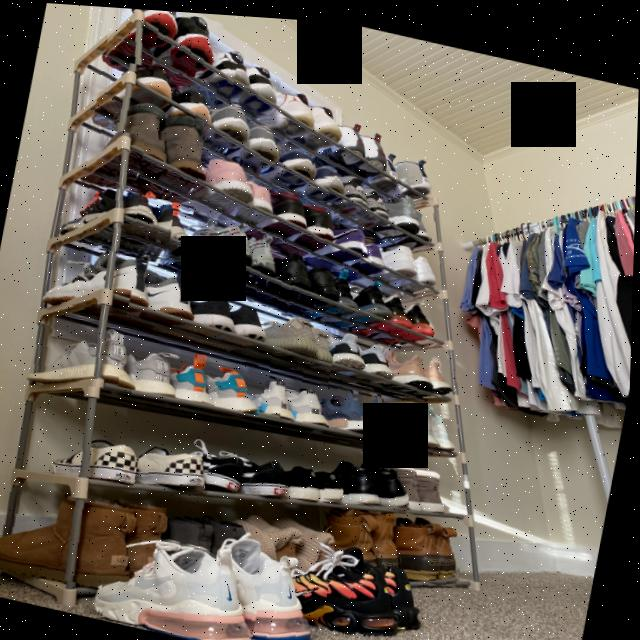shoe: (0, 470, 173, 598), (98, 523, 271, 640), (281, 539, 434, 640), (209, 524, 341, 640), (53, 176, 196, 269), (92, 56, 220, 150), (162, 207, 286, 298), (146, 276, 281, 359), (43, 238, 160, 323), (133, 105, 222, 213), (82, 94, 174, 198), (27, 314, 144, 395), (288, 258, 399, 337), (199, 95, 291, 187), (244, 243, 346, 323), (245, 183, 343, 266), (173, 147, 261, 231), (249, 81, 347, 156), (384, 504, 473, 585), (256, 136, 351, 210), (97, 5, 184, 82), (148, 8, 223, 97), (253, 312, 340, 384), (356, 232, 444, 303), (366, 343, 462, 405), (312, 112, 393, 185), (319, 322, 403, 391), (308, 214, 390, 284), (204, 165, 279, 239), (354, 281, 437, 347), (182, 37, 256, 111), (323, 164, 399, 235), (128, 259, 204, 330), (54, 428, 144, 485), (329, 452, 417, 509), (383, 393, 464, 448), (363, 145, 441, 202), (372, 186, 440, 250), (133, 440, 214, 493), (389, 455, 464, 512), (117, 340, 186, 397), (315, 379, 383, 434), (203, 359, 269, 414), (183, 442, 253, 491), (166, 346, 223, 403), (243, 368, 304, 421), (229, 59, 283, 115), (281, 458, 349, 501), (356, 386, 412, 437), (238, 451, 295, 496), (282, 379, 335, 424)
